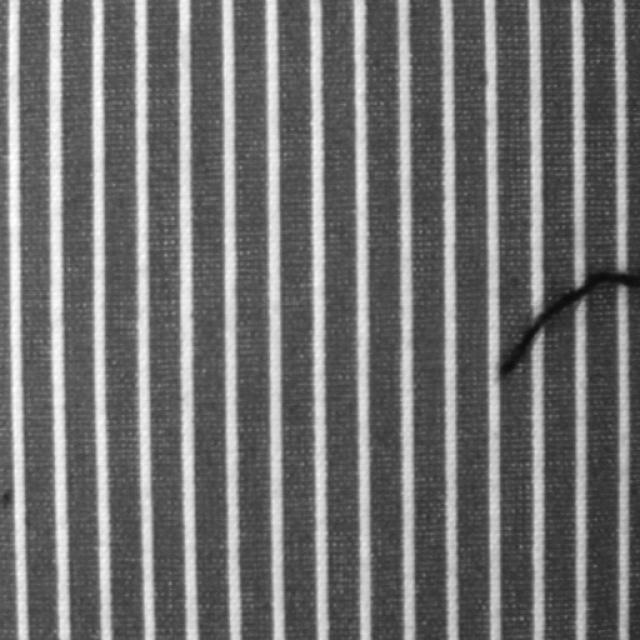Foreign-Body-Defect: (501, 270, 639, 379)
